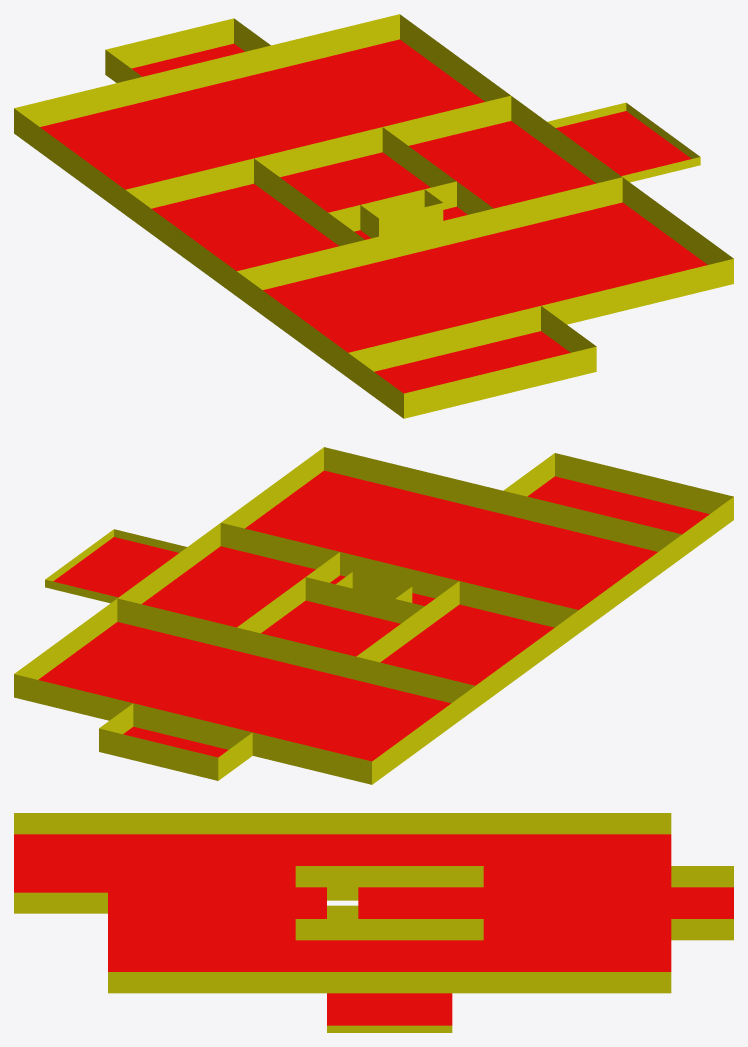
Rendered from RoomsBaseMeshes.fbx.
The picture shows the model from 3 angles, top to bottom: view 1: azimuth 30°, elevation 25°; view 2: azimuth 150°, elevation 25°; view 3: azimuth 270°, elevation 25°; orthographic projection. The views are drawn at different scales.
Visible parts, largest first — view 1: DeskRoomNorth_Mesh, DeskRoomSouth_Mesh, CommonRoom_Mesh, LunchRoom_Mesh, ConferenceRoomLarge_Mesh, Bathroom_Mesh, BalconyRoom_Mesh, ElevatorRoom_Mesh, ExerciseRoom_Mesh; view 2: DeskRoomSouth_Mesh, DeskRoomNorth_Mesh, CommonRoom_Mesh, ConferenceRoomLarge_Mesh, LunchRoom_Mesh, Bathroom_Mesh, ExerciseRoom_Mesh, BalconyRoom_Mesh, ElevatorRoom_Mesh; view 3: DeskRoomNorth_Mesh, DeskRoomSouth_Mesh, LunchRoom_Mesh, CommonRoom_Mesh, ConferenceRoomLarge_Mesh, Bathroom_Mesh, BalconyRoom_Mesh, ExerciseRoom_Mesh, ElevatorRoom_Mesh.
Part boxes in pixels (x1=…): DeskRoomNorth_Mesh: x1=14, y1=14, x2=511, y2=214; DeskRoomSouth_Mesh: x1=236, y1=177, x2=733, y2=377; CommonRoom_Mesh: x1=125, y1=158, x2=365, y2=295; LunchRoom_Mesh: x1=382, y1=96, x2=622, y2=233; ConferenceRoomLarge_Mesh: x1=348, y1=306, x2=596, y2=418; Bathroom_Mesh: x1=280, y1=127, x2=456, y2=230; BalconyRoom_Mesh: x1=547, y1=102, x2=700, y2=182; ElevatorRoom_Mesh: x1=328, y1=181, x2=493, y2=264; ExerciseRoom_Mesh: x1=105, y1=18, x2=270, y2=82; DeskRoomSouth_Mesh: x1=220, y1=447, x2=682, y2=632; DeskRoomNorth_Mesh: x1=14, y1=599, x2=475, y2=784; CommonRoom_Mesh: x1=356, y1=581, x2=578, y2=708; ConferenceRoomLarge_Mesh: x1=503, y1=453, x2=733, y2=557; LunchRoom_Mesh: x1=117, y1=523, x2=339, y2=650; Bathroom_Mesh: x1=236, y1=577, x2=424, y2=679; ExerciseRoom_Mesh: x1=99, y1=703, x2=252, y2=780; BalconyRoom_Mesh: x1=45, y1=529, x2=186, y2=603; ElevatorRoom_Mesh: x1=305, y1=552, x2=458, y2=623; DeskRoomNorth_Mesh: x1=483, y1=813, x2=671, y2=993; DeskRoomSouth_Mesh: x1=108, y1=813, x2=295, y2=993; LunchRoom_Mesh: x1=295, y1=919, x2=483, y2=993; CommonRoom_Mesh: x1=295, y1=813, x2=483, y2=886; ConferenceRoomLarge_Mesh: x1=14, y1=813, x2=107, y2=913; Bathroom_Mesh: x1=358, y1=866, x2=483, y2=922; BalconyRoom_Mesh: x1=327, y1=993, x2=452, y2=1032; ExerciseRoom_Mesh: x1=671, y1=866, x2=733, y2=940; ElevatorRoom_Mesh: x1=295, y1=866, x2=358, y2=940.
Size of what is drawn, in the model's own units: 29.95 by 1.5 by 45.92.
